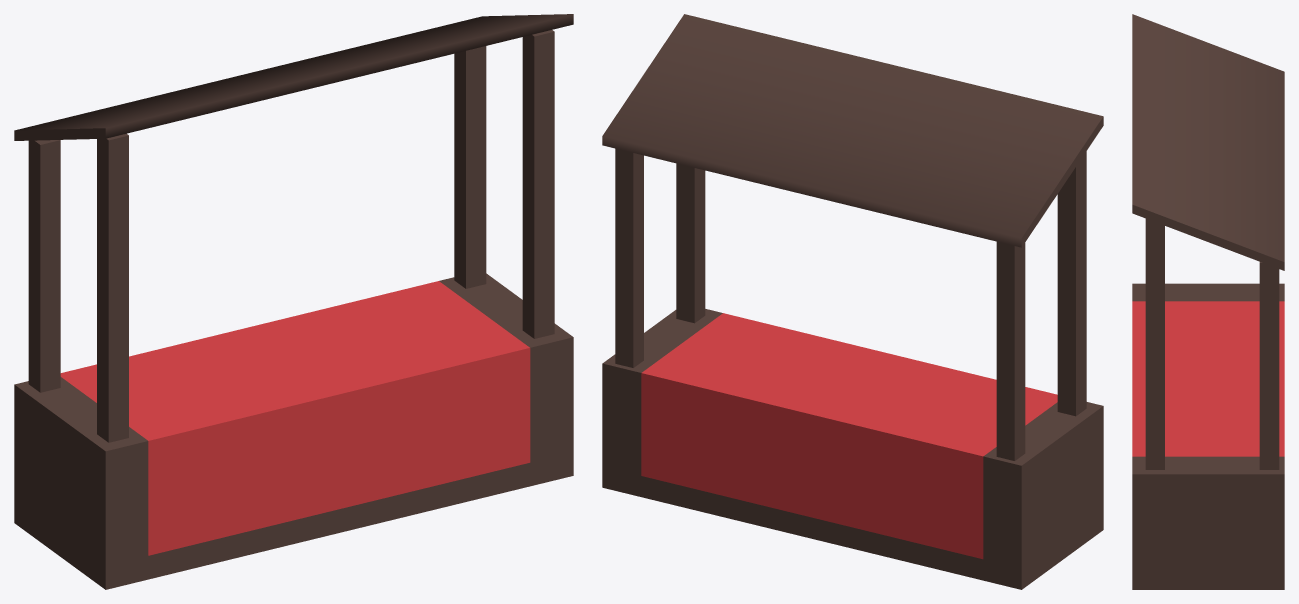
The model's file is stand_01.fbx.
3 views of the same model, side by side, from view 1: azimuth 30°, elevation 25°; view 2: azimuth 150°, elevation 25°; view 3: azimuth 270°, elevation 25° (orthographic). The views are drawn at different scales.
Parts seen in each view (by area): view 1: Cube, Cube_6, Cube_1; view 2: Cube, Cube_1, Cube_6; view 3: Cube, Cube_1, Cube_6.
Part boxes in pixels (box(x1,y1,x2,y2)): Cube: box(14, 273, 573, 589); Cube_6: box(28, 30, 554, 442); Cube_1: box(14, 14, 573, 140); Cube: box(602, 309, 1103, 589); Cube_1: box(602, 14, 1103, 247); Cube_6: box(615, 148, 1086, 460); Cube: box(1132, 283, 1284, 589); Cube_1: box(1132, 14, 1284, 270); Cube_6: box(1145, 218, 1279, 469).
Bounding box in the file's own units: 45.99 × 43.37 × 15.55.
